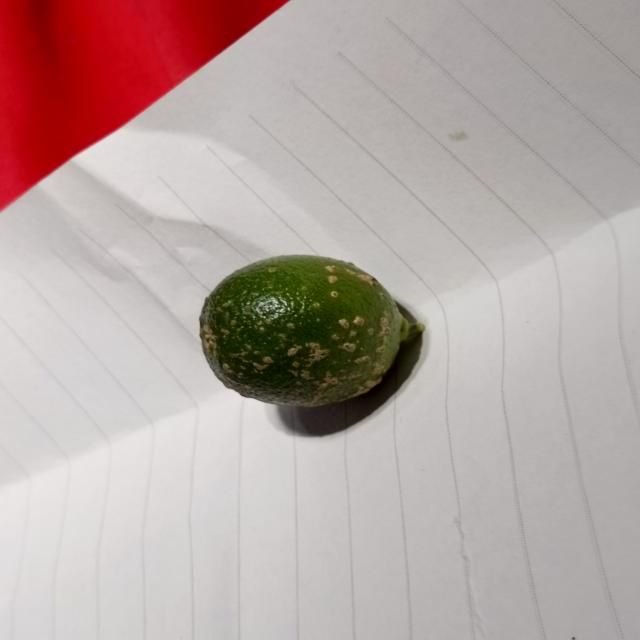scab: (187, 250, 411, 411)
